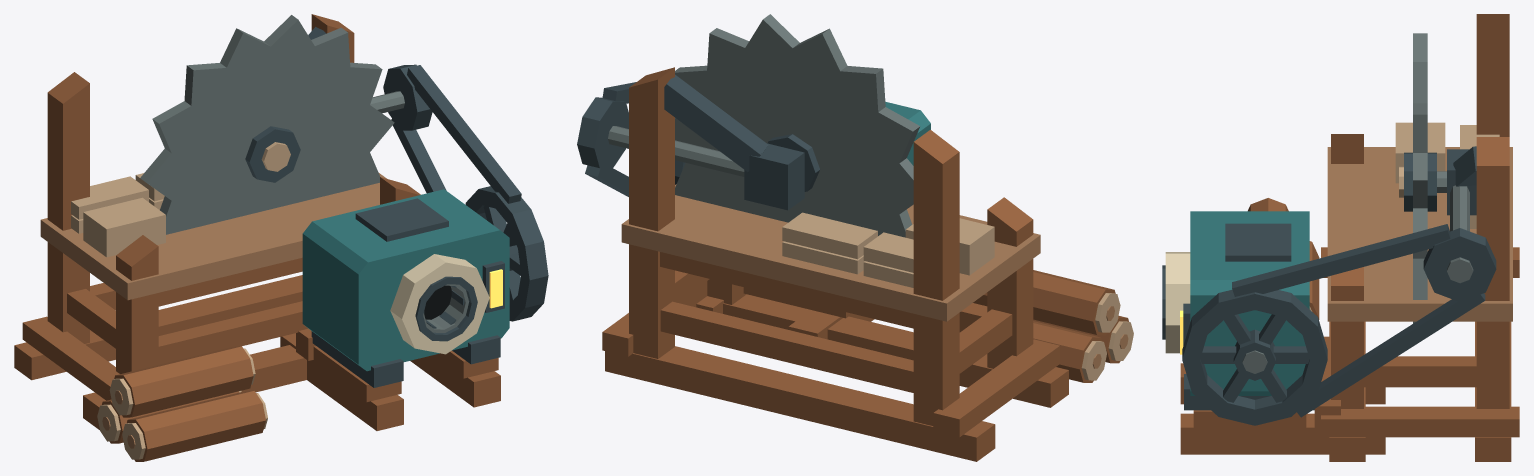
File: sawmill.glb
The picture shows the model from 3 angles, left to right: view 1: azimuth 30°, elevation 25°; view 2: azimuth 150°, elevation 25°; view 3: azimuth 270°, elevation 25°; orthographic projection. The views are drawn at different scales.
Visible parts, largest first — view 1: Sawmill Timber, Saw blade, SharedGenerator_teal, Sawmill Planks, Sawmill Cut wood, SharedGenerator_iron, Sawmill Iron, FlywheelPivot_iron, SharedGenerator_cream, Blade hub, SocketRotor_steel, Hub cap (+2 smaller); view 2: Sawmill Timber, Saw blade, Sawmill Planks, Sawmill Iron, Sawmill Cut wood, Sawmill Steel, Blade hub, SharedGenerator_teal; view 3: Sawmill Timber, Sawmill Planks, Sawmill Iron, FlywheelPivot_iron, SharedGenerator_teal, SharedGenerator_iron, Saw blade, SharedGenerator_cream, Sawmill Cut wood, Sawmill Steel, Blade hub, FlywheelPivot_steel.
Boxes of the visible parts, left/top/right/bottom form: Sawmill Timber: left=14, top=14, right=500, bottom=461; Saw blade: left=140, top=15, right=394, bottom=234; SharedGenerator_teal: left=302, top=189, right=509, bottom=371; Sawmill Planks: left=40, top=173, right=386, bottom=300; Sawmill Cut wood: left=71, top=173, right=267, bottom=459; SharedGenerator_iron: left=311, top=198, right=504, bottom=387; Sawmill Iron: left=308, top=27, right=521, bottom=203; FlywheelPivot_iron: left=465, top=186, right=548, bottom=321; SharedGenerator_cream: left=390, top=254, right=489, bottom=354; Blade hub: left=245, top=126, right=300, bottom=182; SocketRotor_steel: left=423, top=284, right=468, bottom=332; Hub cap: left=261, top=142, right=290, bottom=171; Sawmill Timber: left=602, top=67, right=1128, bottom=461; Saw blade: left=675, top=14, right=920, bottom=237; Sawmill Planks: left=621, top=184, right=1040, bottom=321; Sawmill Iron: left=577, top=74, right=804, bottom=210; Sawmill Cut wood: left=782, top=212, right=1133, bottom=380; Sawmill Steel: left=608, top=126, right=744, bottom=176; Blade hub: left=767, top=134, right=820, bottom=191; SharedGenerator_teal: left=885, top=101, right=930, bottom=165; Sawmill Timber: left=1180, top=14, right=1519, bottom=461; Sawmill Planks: left=1327, top=147, right=1512, bottom=321; Sawmill Iron: left=1232, top=146, right=1496, bottom=417; FlywheelPivot_iron: left=1182, top=290, right=1327, bottom=425; SharedGenerator_teal: left=1190, top=211, right=1309, bottom=395; SharedGenerator_iron: left=1162, top=223, right=1314, bottom=410; Saw blade: left=1413, top=33, right=1427, bottom=323; SharedGenerator_cream: left=1165, top=252, right=1190, bottom=353; Sawmill Cut wood: left=1309, top=122, right=1499, bottom=311; Sawmill Steel: left=1437, top=171, right=1473, bottom=283; Blade hub: left=1404, top=152, right=1436, bottom=211; FlywheelPivot_steel: left=1242, top=350, right=1267, bottom=373.
Bounding box in the file's own units: 1.47 × 1.15 × 1.08.
